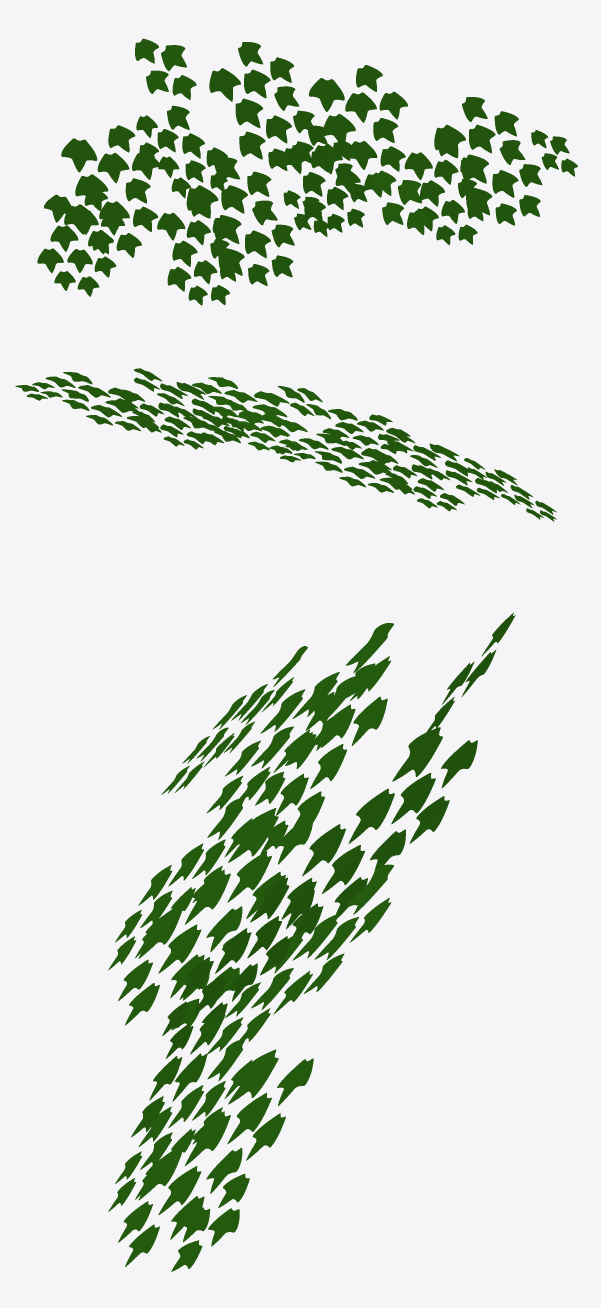
The model's file is Prop_Vine9.obj.
3 views of the same model, one above another, from view 1: azimuth 30°, elevation 25°; view 2: azimuth 150°, elevation 25°; view 3: azimuth 270°, elevation 25° (orthographic). The views are drawn at different scales.
Visible parts, largest first — view 1: Prop_Vine9; view 2: Prop_Vine9; view 3: Prop_Vine9.
Part boxes in pixels (left/top/right/bottom): Prop_Vine9: left=37, top=38, right=577, bottom=305; Prop_Vine9: left=15, top=368, right=556, bottom=521; Prop_Vine9: left=108, top=612, right=515, bottom=1271.
Size of the model in its own units: 4.14 by 1.47 by 1.47.
